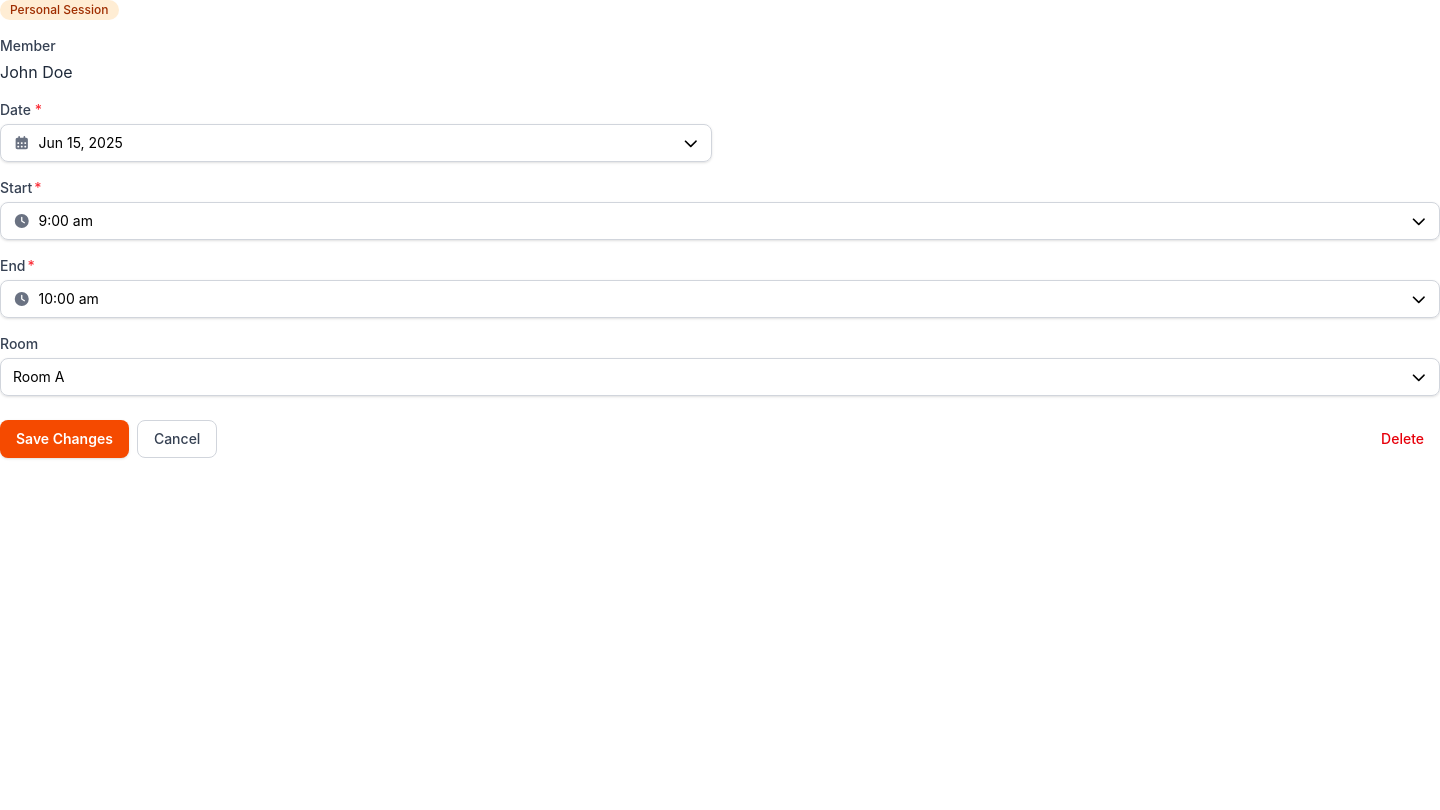
it: EventEditForm › opens confirm dialog on Delete click
Click the button "Delete" at (1403, 439), box x1=1365 y1=421 x2=1439 y2=457
Wait 100 ms
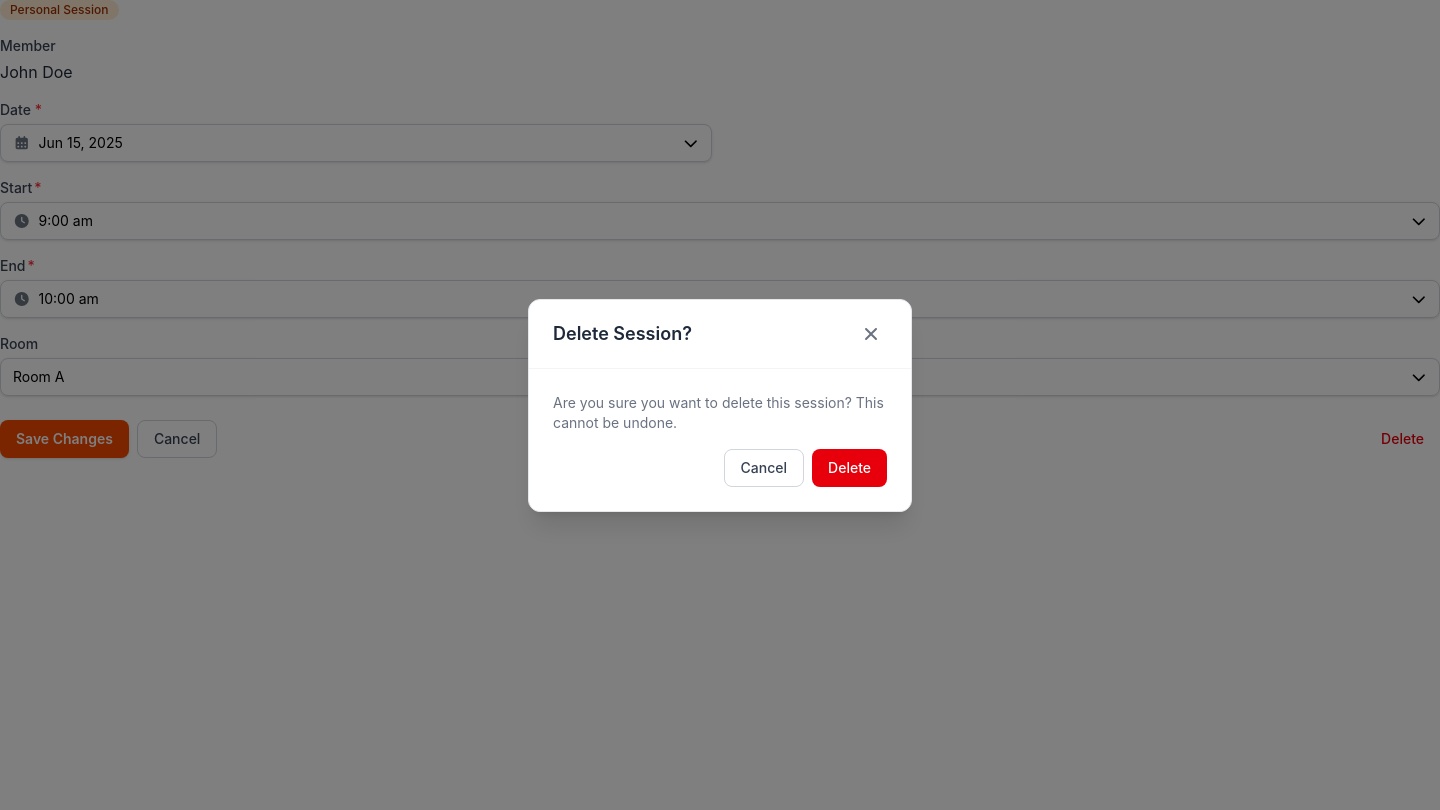
Check: the text "Are you sure you want to delete this session" is shown, box x1=553 y1=394 x2=884 y2=430
